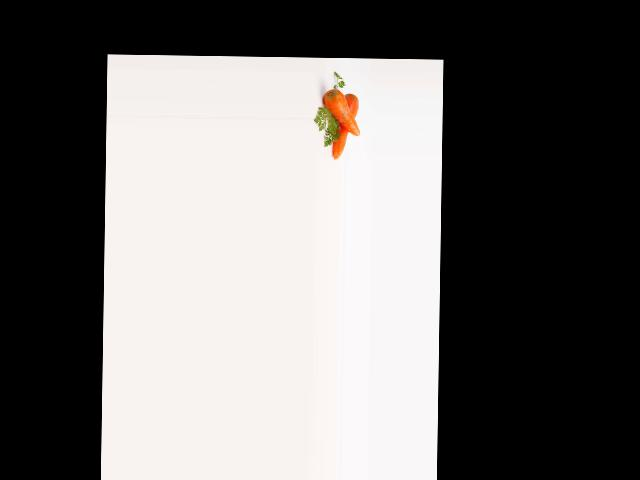carrot: (332, 92, 359, 160)
